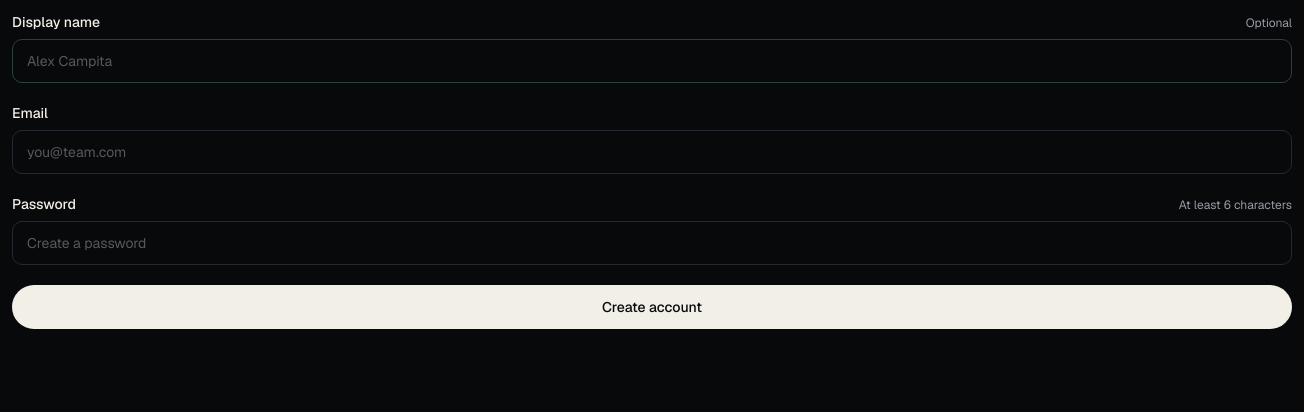
it: RegisterForm › shows the confirmation success message
Click the button "Create account".
click(652, 307)  # box [12,285,1292,329]
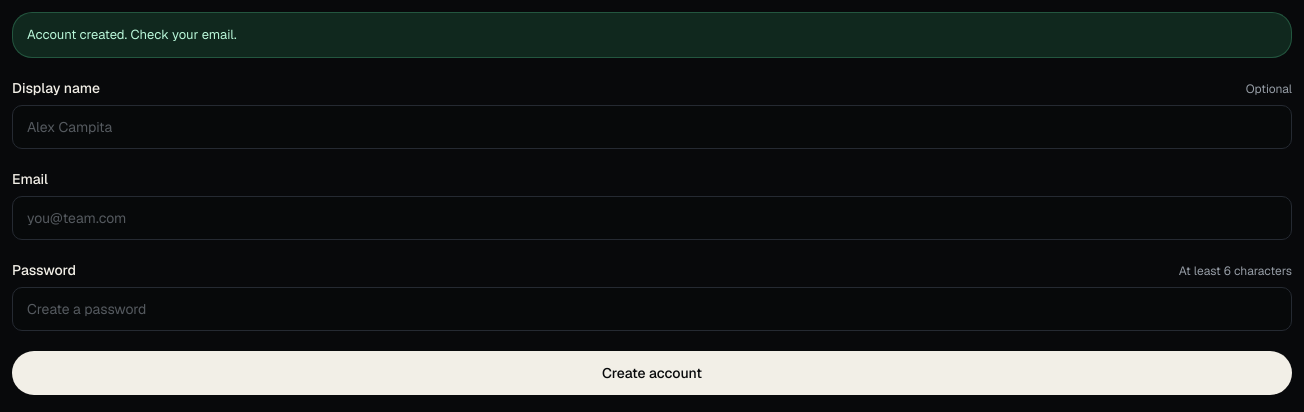
Expected: the message shows "Account created.", [27,26,237,43]
